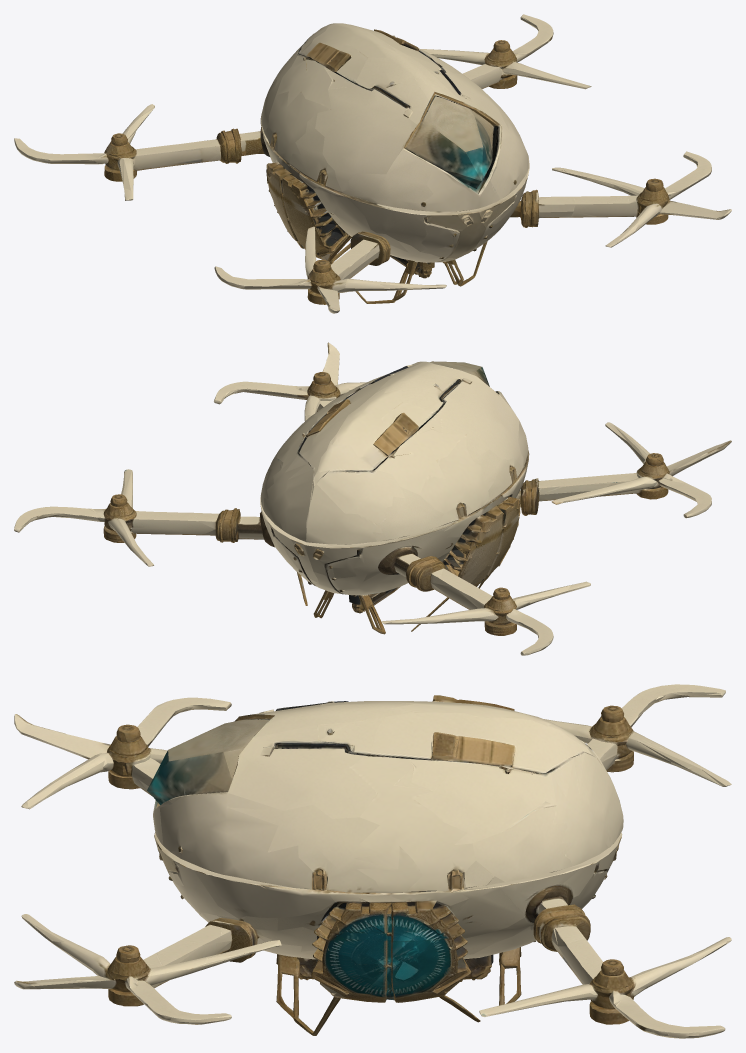
The model's file is luminar.glb.
3 renders of one model, top to bottom at view 1: azimuth 30°, elevation 25°; view 2: azimuth 150°, elevation 25°; view 3: azimuth 270°, elevation 25°, orthographic. The views are drawn at different scales.
Bounding box in the file's own units: 1.9 × 0.7523 × 1.65.
Materials: 1 (1 with a texture image).
